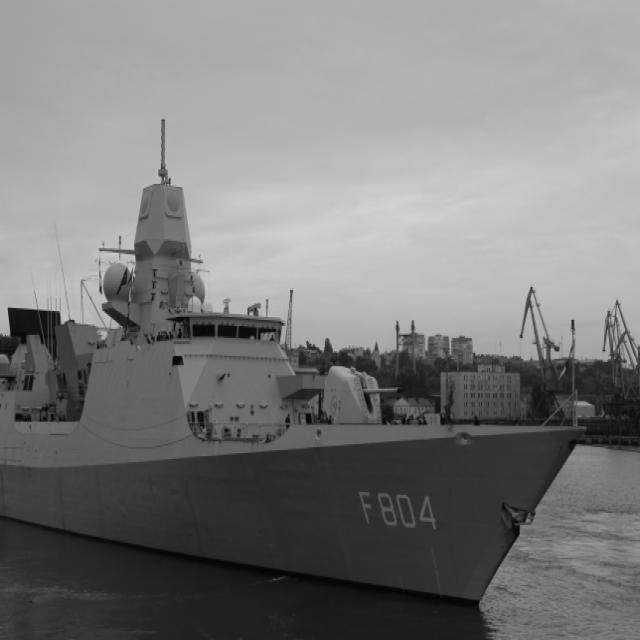Fragata: (1, 63, 592, 611)
